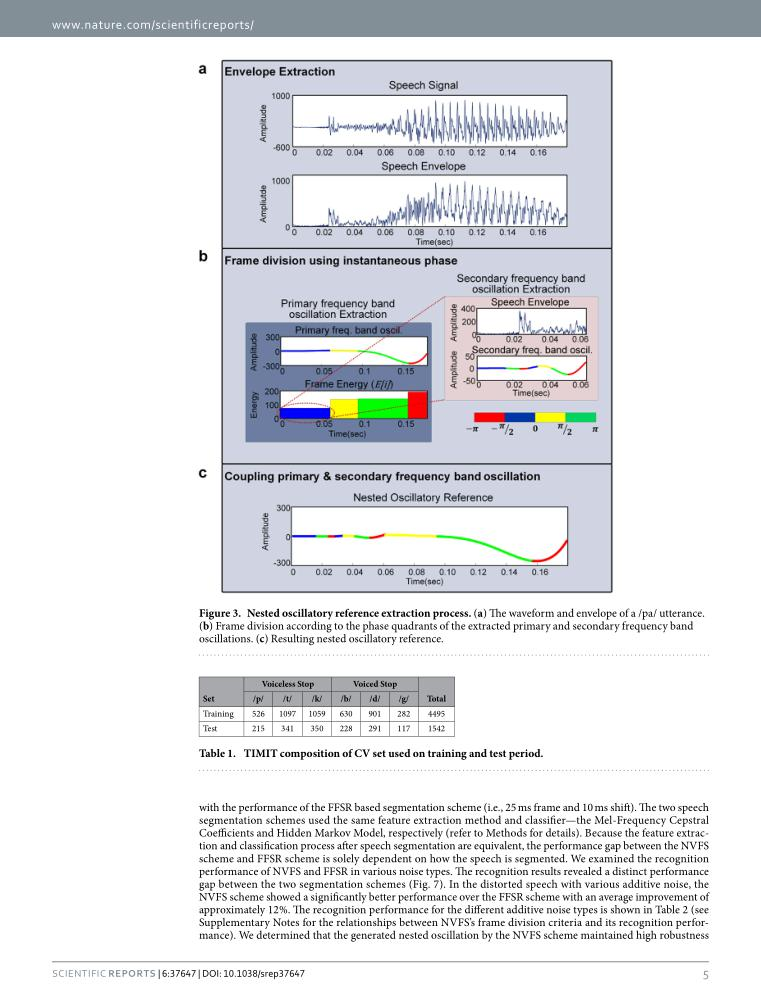table: (202, 677, 445, 734)
